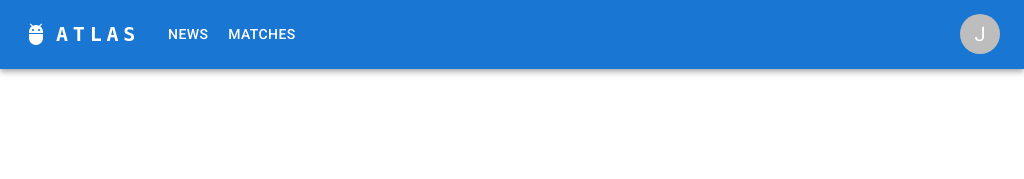
it: Navbar › desktop: should display Logout Button in profile menu items
This screenshot has width=1024, height=179.
Click the button named "Open Profile Settings".
click(980, 34)  # box [960,14,1000,54]
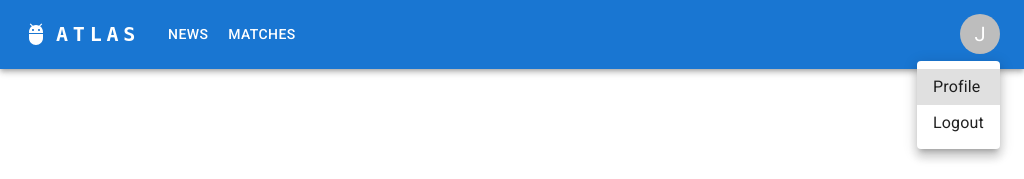
expect the menu is shown: met, box [917,61,1000,149]
expect the menu item "Logout" is shown: met
Click the menu item "Logout".
click(958, 122)  # box [933,113,984,132]
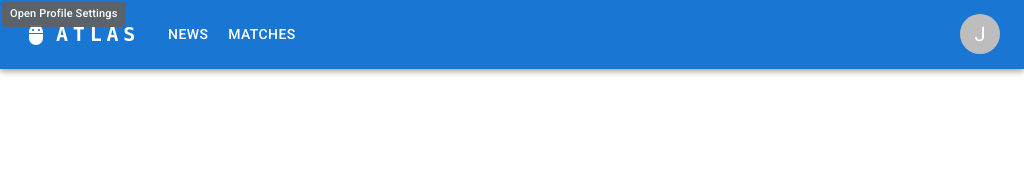
expect the menu item "Logout" is gone: met
